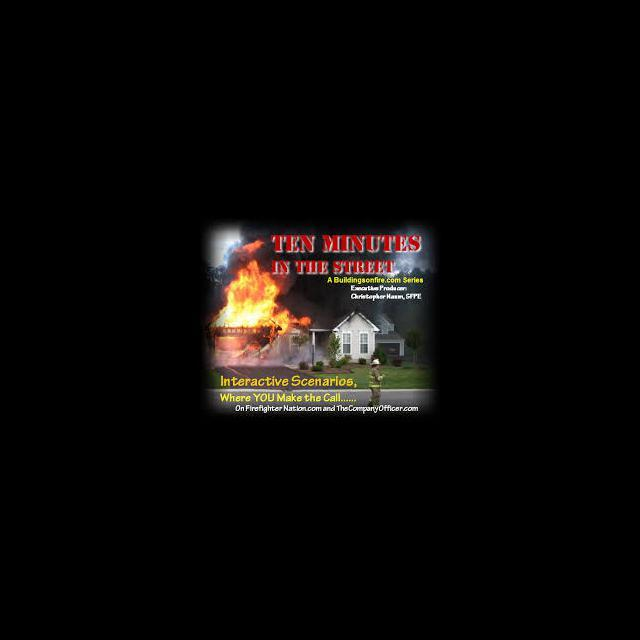Fire: (210, 240, 314, 358)
